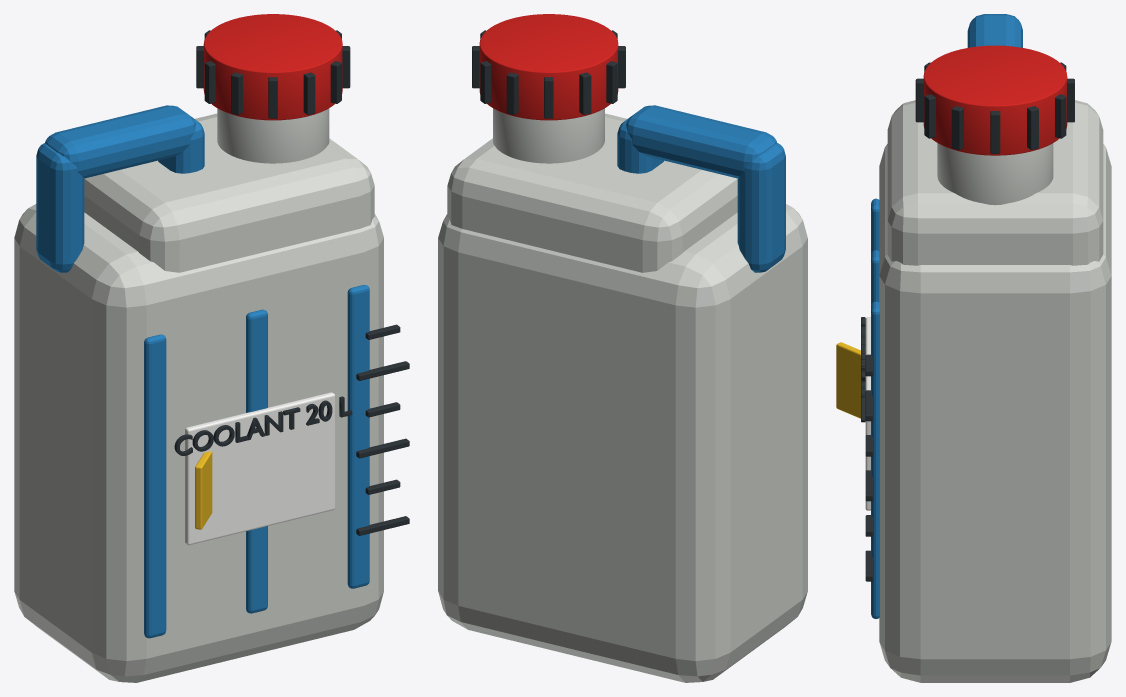
File: hdpe_jerry_can.glb
The picture shows the model from 3 angles, left to right: view 1: azimuth 30°, elevation 25°; view 2: azimuth 150°, elevation 25°; view 3: azimuth 270°, elevation 25°; orthographic projection. The views are drawn at different scales.
Parts seen in each view (by area): view 1: JUG_BODY, JUG_SHOULDER, JUG_LABEL, JUG_CAP, MOLDED_RIB_-0.22, HANDLE_TOP, MOLDED_RIB_0.22, HANDLE_LEFT, JUG_NECK, MOLDED_RIB_0, JUG_PRINT, HAZARD_DIAMOND (+1 smaller); view 2: JUG_BODY, JUG_SHOULDER, JUG_CAP, HANDLE_TOP, HANDLE_LEFT, JUG_NECK, HANDLE_RIGHT; view 3: JUG_BODY, JUG_SHOULDER, JUG_CAP, JUG_NECK, MOLDED_RIB_0.22, HAZARD_DIAMOND, HANDLE_TOP, JUG_CAP_GRIP_11, JUG_LABEL, JUG_PRINT, JUG_CAP_GRIP_1, JUG_CAP_GRIP_2 (+4 smaller).
Part boxes in pixels (x1=…): JUG_BODY: x1=14, y1=204, x2=383, y2=682; JUG_SHOULDER: x1=84, y1=113, x2=374, y2=272; JUG_LABEL: x1=185, y1=392, x2=335, y2=545; JUG_CAP: x1=203, y1=14, x2=342, y2=120; MOLDED_RIB_-0.22: x1=144, y1=334, x2=166, y2=638; HANDLE_TOP: x1=45, y1=105, x2=195, y2=178; MOLDED_RIB_0.22: x1=347, y1=285, x2=369, y2=588; HANDLE_LEFT: x1=36, y1=143, x2=84, y2=272; JUG_NECK: x1=217, y1=108, x2=329, y2=163; MOLDED_RIB_0: x1=246, y1=309, x2=267, y2=613; JUG_PRINT: x1=174, y1=396, x2=352, y2=455; HAZARD_DIAMOND: x1=195, y1=451, x2=212, y2=529; JUG_BODY: x1=438, y1=204, x2=807, y2=682; JUG_SHOULDER: x1=447, y1=113, x2=737, y2=272; JUG_CAP: x1=479, y1=14, x2=618, y2=120; HANDLE_TOP: x1=626, y1=105, x2=776, y2=178; HANDLE_LEFT: x1=737, y1=143, x2=785, y2=272; JUG_NECK: x1=493, y1=108, x2=604, y2=163; HANDLE_RIGHT: x1=617, y1=115, x2=663, y2=173; JUG_BODY: x1=879, y1=144, x2=1111, y2=682; JUG_SHOULDER: x1=887, y1=100, x2=1103, y2=265; JUG_CAP: x1=923, y1=45, x2=1067, y2=155; JUG_NECK: x1=937, y1=143, x2=1053, y2=205; MOLDED_RIB_0.22: x1=871, y1=301, x2=879, y2=618; HAZARD_DIAMOND: x1=836, y1=342, x2=860, y2=418; HANDLE_TOP: x1=967, y1=14, x2=1022, y2=47; JUG_CAP_GRIP_11: x1=951, y1=106, x2=963, y2=150; JUG_LABEL: x1=865, y1=317, x2=870, y2=510; JUG_PRINT: x1=861, y1=317, x2=865, y2=422; JUG_CAP_GRIP_1: x1=1027, y1=106, x2=1038, y2=150; JUG_CAP_GRIP_2: x1=1055, y1=94, x2=1066, y2=138.
Size of the model in its own units: 0.655 by 1.17 by 0.4976.
